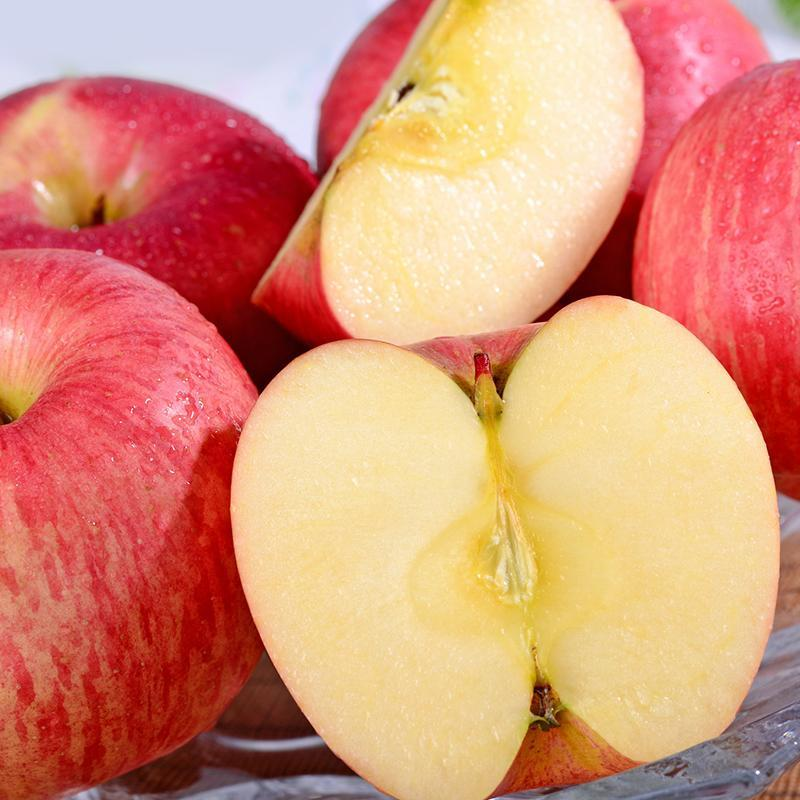apple: (1, 261, 279, 792), (1, 75, 310, 380), (632, 57, 800, 499)
